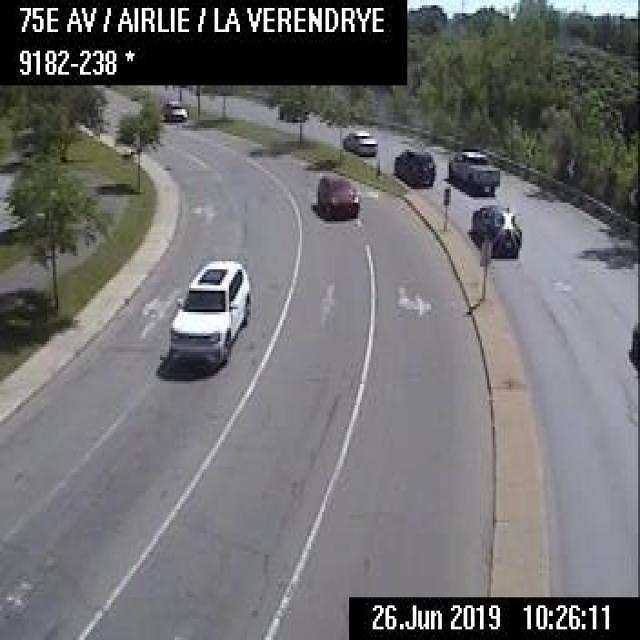vehicle: (166, 254, 252, 366), (466, 204, 522, 257), (445, 147, 500, 195), (312, 170, 360, 217), (391, 144, 435, 187), (342, 125, 376, 155), (274, 100, 306, 118), (162, 100, 188, 120)
